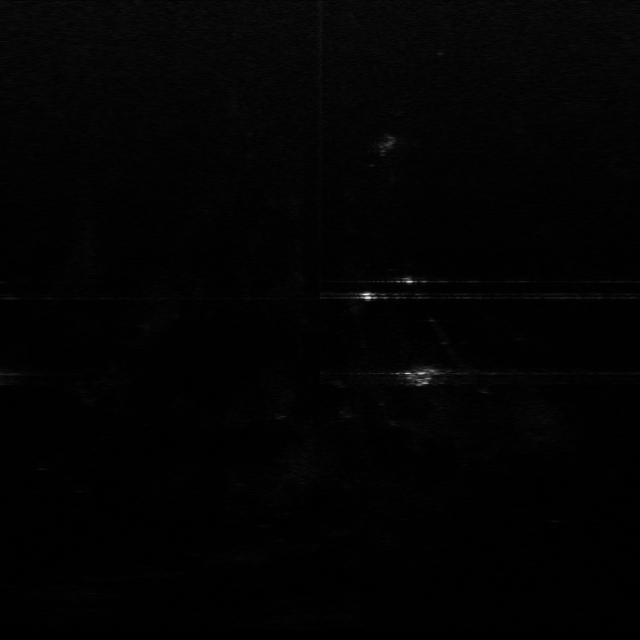rov: (397, 365, 443, 388)
